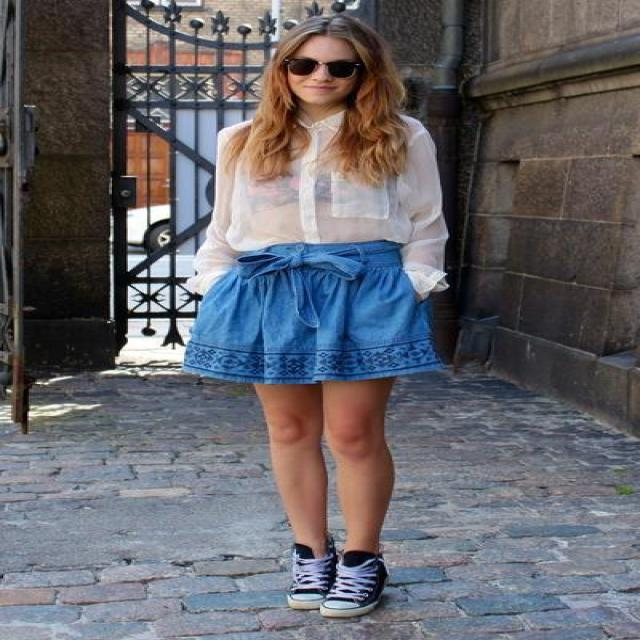shirt: (176, 141, 448, 293)
shoe: (280, 525, 402, 614)
skirt: (172, 239, 450, 383)
